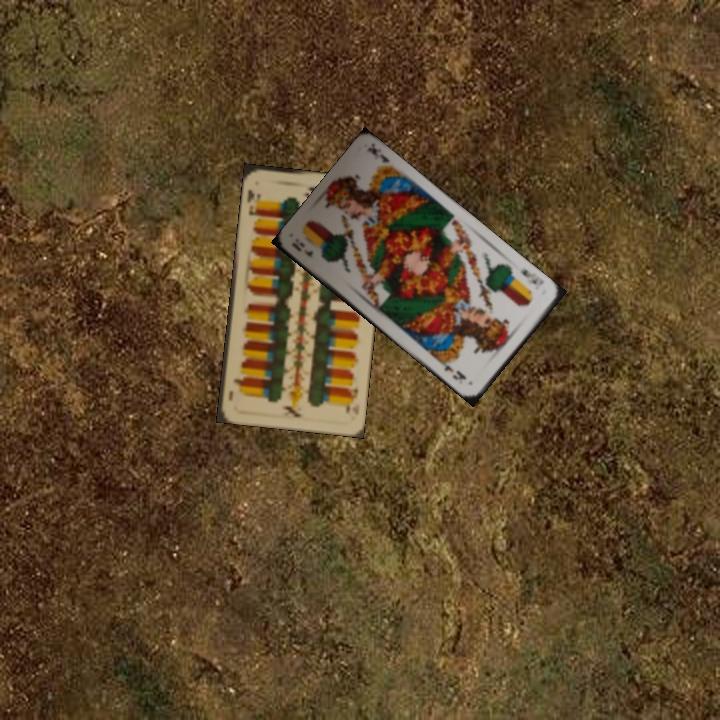E10: (243, 185, 263, 219), (342, 384, 360, 416)
EK: (516, 265, 546, 287), (288, 239, 316, 259)
